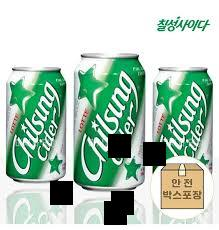chilsungcider: (69, 44, 147, 197), (6, 64, 69, 185)
